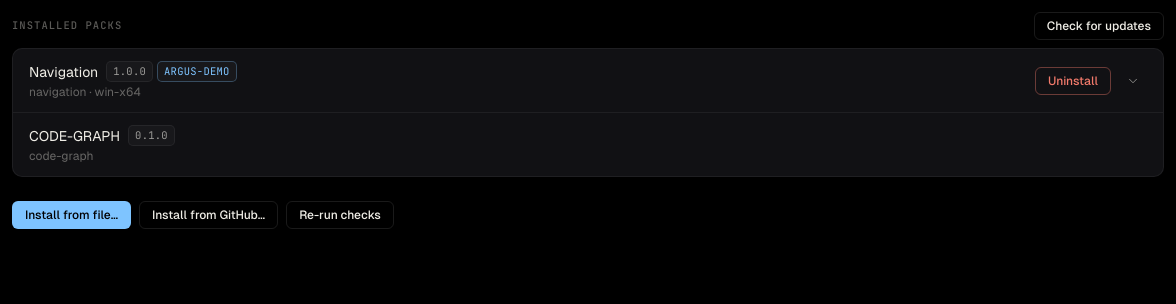
Scenario: PacksSettings › rejects an incompatible-platform bundle with an error and does not install
What coordinates should you click on to do the following:
click the button "Install from file…"
I would click on:
 (72, 215)
Its box is [12, 201, 131, 229].
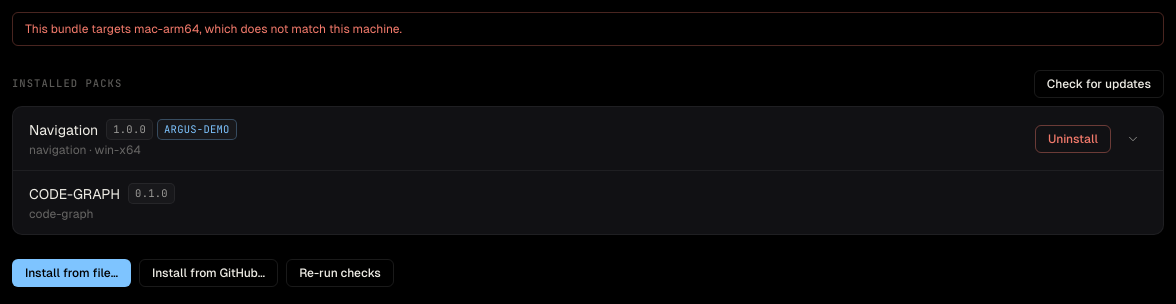
Check: the message reads "This bundle targets mac-arm64, which does not match this machine.", box [25, 22, 402, 36]
